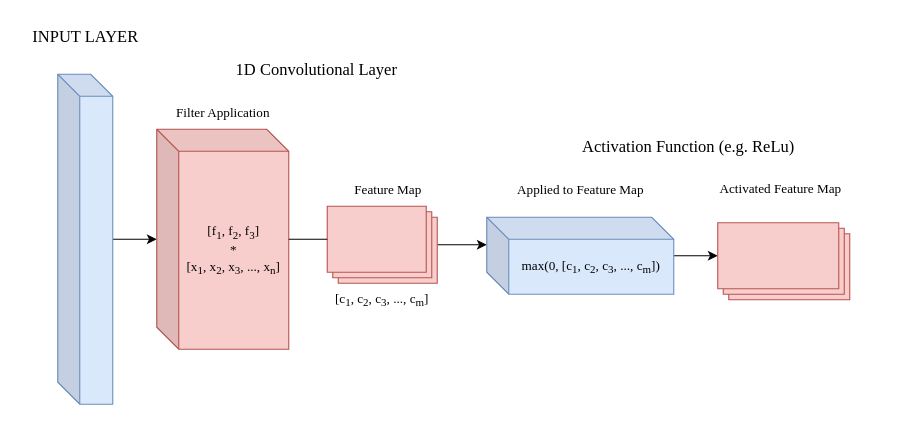
Some shapes in this 923 by 424 pixel diagram are drawn without their labels. Each missing label, with the centre of its shape:
[a 1 , a 2 , a 3 , ..., a m ]: [783,261]
x 1 x 2 x 3 ... x n: [85,238]
